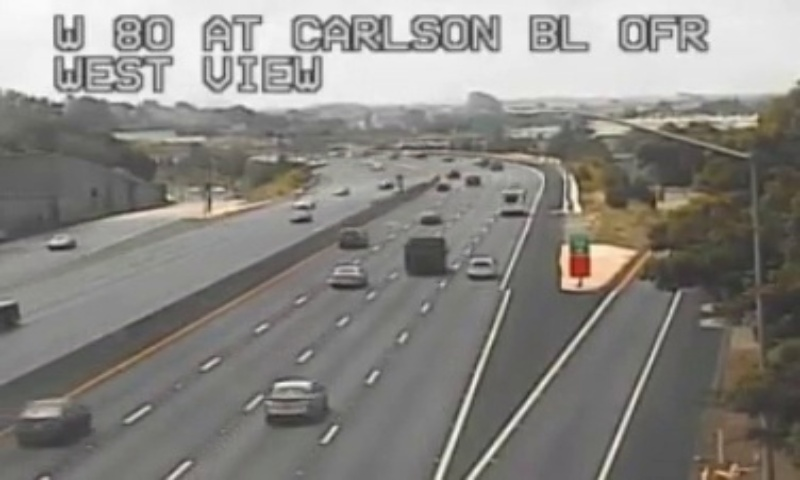car: (14, 400, 91, 442), (263, 378, 325, 418), (325, 265, 365, 288), (338, 227, 368, 250), (465, 256, 495, 279)
